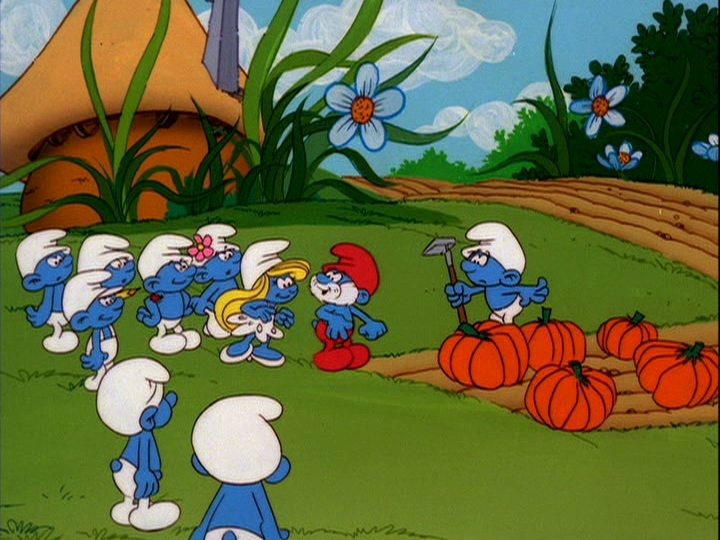smurf: (186, 394, 294, 540), (93, 354, 180, 533), (444, 220, 550, 325), (222, 236, 302, 373), (306, 241, 388, 373), (58, 270, 130, 390), (137, 233, 205, 360), (14, 228, 78, 353), (188, 221, 248, 339), (78, 231, 136, 293)
